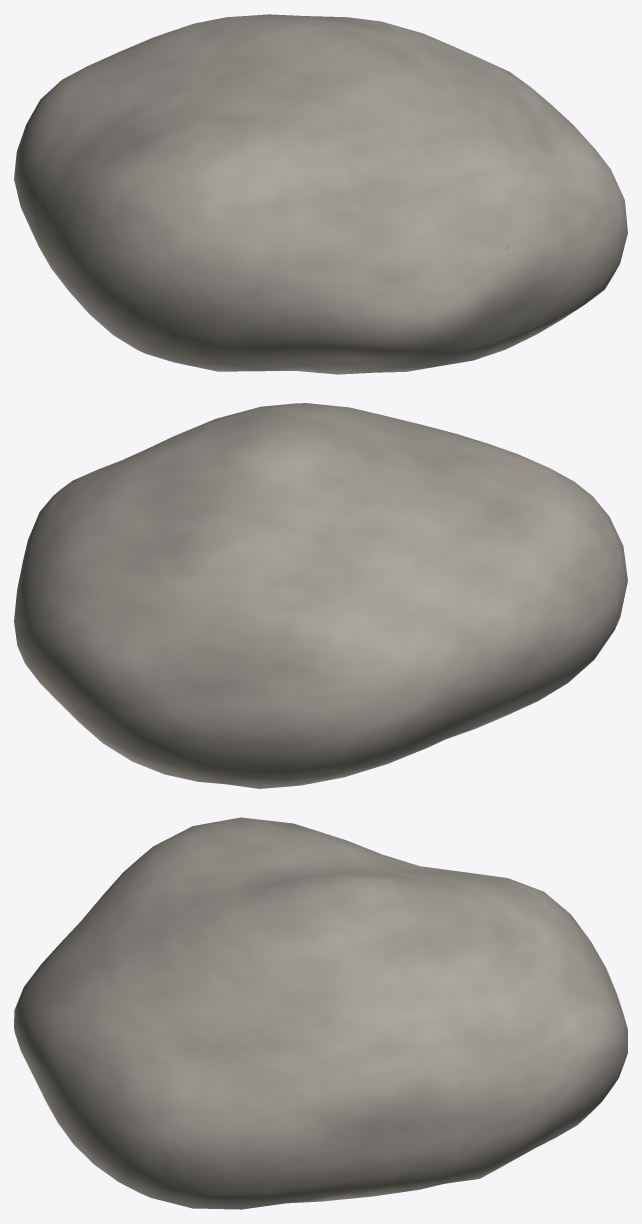
Rendered from rock_cobble_worn.glb.
The picture shows the model from 3 angles, top to bottom: view 1: azimuth 30°, elevation 25°; view 2: azimuth 150°, elevation 25°; view 3: azimuth 270°, elevation 25°; orthographic projection. The views are drawn at different scales.
Parts seen in each view (by area): view 1: rock_cobble_worn; view 2: rock_cobble_worn; view 3: rock_cobble_worn.
Boxes of the visible parts, left/top/right/bottom form: rock_cobble_worn: left=14, top=14, right=627, bottom=374; rock_cobble_worn: left=14, top=403, right=627, bottom=788; rock_cobble_worn: left=14, top=817, right=627, bottom=1209.
Size of the model in its own units: 0.6089 by 0.248 by 0.6262.
Materials: 1 (1 with a texture image).
